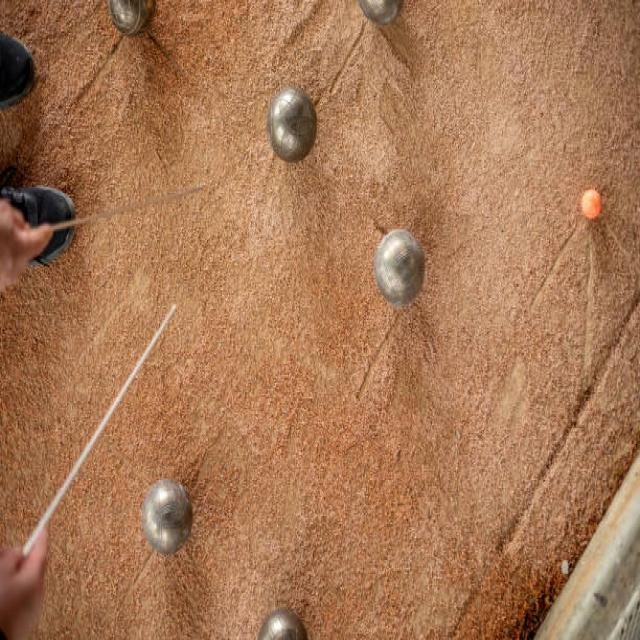hatball: (577, 181, 609, 226)
petanque: (136, 475, 203, 565), (263, 86, 322, 177), (370, 225, 432, 308), (98, 0, 166, 43), (254, 601, 315, 638), (354, 0, 413, 35)
